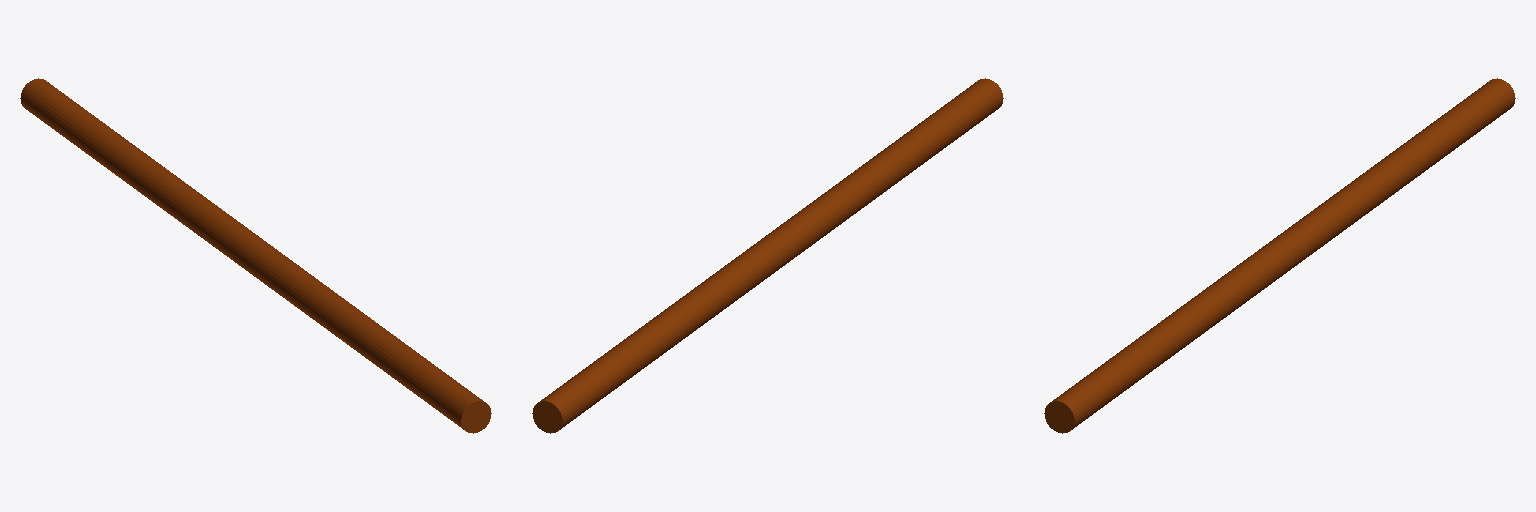
The robot description file, URDF, robot "cylinder":
<?xml version="1.0" ?>
<!-- =================================================================================== -->
<!-- |    This document was autogenerated by xacro from cylinder.xacro                 | -->
<!-- |    EDITING THIS FILE BY HAND IS NOT RECOMMENDED                                 | -->
<!-- =================================================================================== -->
<robot name="cylinder">
  <link name="world"/>
  <link name="base">
    <visual>
      <origin rpy="1.57079633 0 0" xyz="0 0 0"/>
      <geometry>
        <cylinder length="7.07106781185" radius="0.14"/>
      </geometry>
      <material name="cylinder_material">
        <color rgba="0.545 0.271 0.075 1.0"/>
        <texture filename="../textures/tree_bark.jpg"/>
      </material>
    </visual>
    <collision>
      <origin rpy="1.57079633 0 0" xyz="0 0 0"/>
      <geometry>
        <cylinder length="7.07106781185" radius="0.14"/>
      </geometry>
    </collision>
    <inertial>
      <origin rpy="0 0 0" xyz="0 0 0"/>
      <mass value="1"/>
      <inertia ixx="4.171566666648428" ixy="0.0" ixz="0.0" iyy="4.171566666648428" iyz="0.0" izz="24.999999999890573"/>
    </inertial>
  </link>
  <joint name="base_joint" type="fixed">
    <parent link="world"/>
    <child link="base"/>
    <origin rpy="0 0 0" xyz="0.0 0.0 0.0"/>
  </joint>
</robot>

--- Render facts (derived) ---
The picture shows the robot from 3 angles, left to right: view 1: azimuth 30°, elevation 25°; view 2: azimuth 150°, elevation 25°; view 3: azimuth 330°, elevation 25°; orthographic projection.
Model cylinder with 2 links and 1 joints (1 fixed), rooted at world, posed all joints at 0.
Visible links, largest first — view 1: base; view 2: base; view 3: base.
Link boxes in pixels (left/top/right/bottom): base: left=20, top=78, right=491, bottom=433; base: left=532, top=78, right=1003, bottom=433; base: left=1044, top=78, right=1515, bottom=433.
Bounding box of the posed robot: 0.28 × 7.07 × 0.28 m (x, y, z).
Geometry: primitives only (box / cylinder / sphere), no mesh files.
